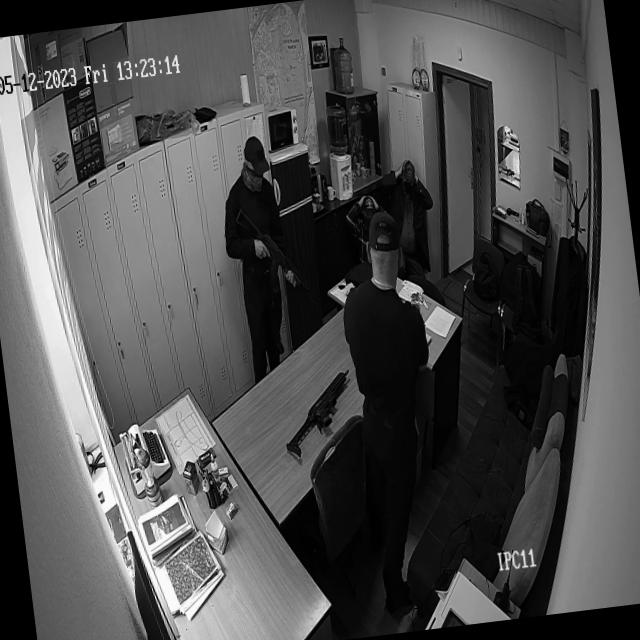gun: (240, 196, 314, 322), (277, 358, 363, 466)
person: (387, 152, 434, 220), (346, 194, 389, 234)
person with a gun: (332, 210, 454, 516), (219, 126, 321, 386)
